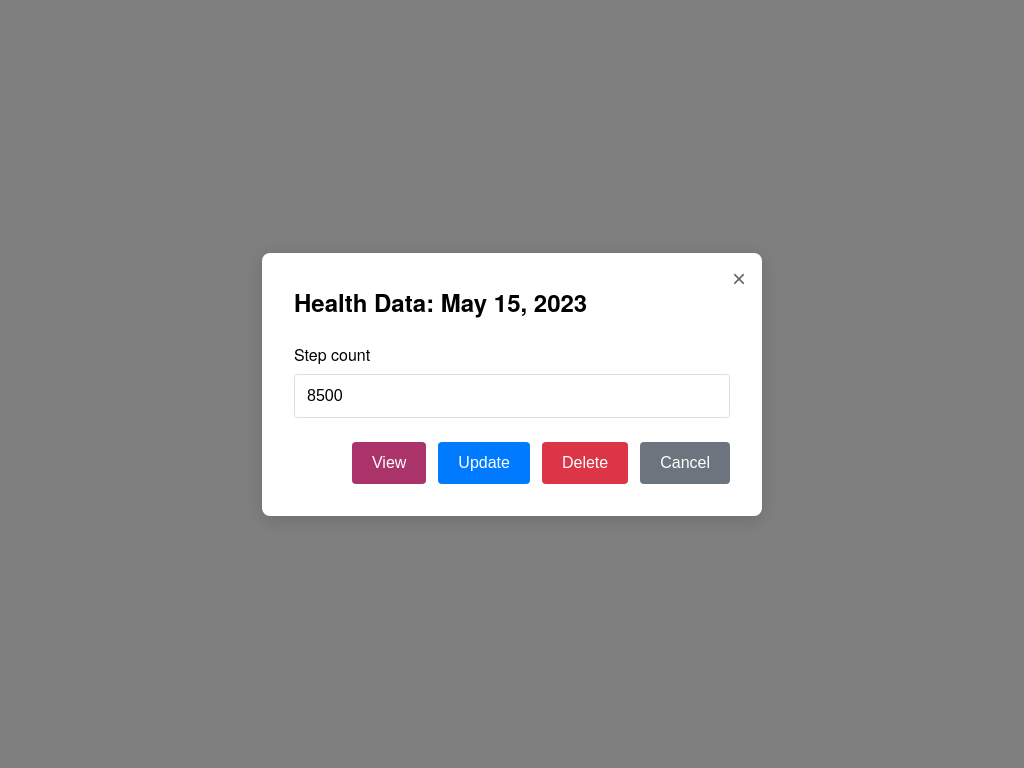
Test case: HealthDataModal Integration Tests › Error Handling Integration › should handle save operation failure gracefully
This screenshot has width=1024, height=768.
Expected: the number field labelled "Step count" is shown, x1=294 y1=374 x2=730 y2=418
// Try to save
Click the button "Update" at x=484, y=462, box x1=438 y1=442 x2=530 y2=484
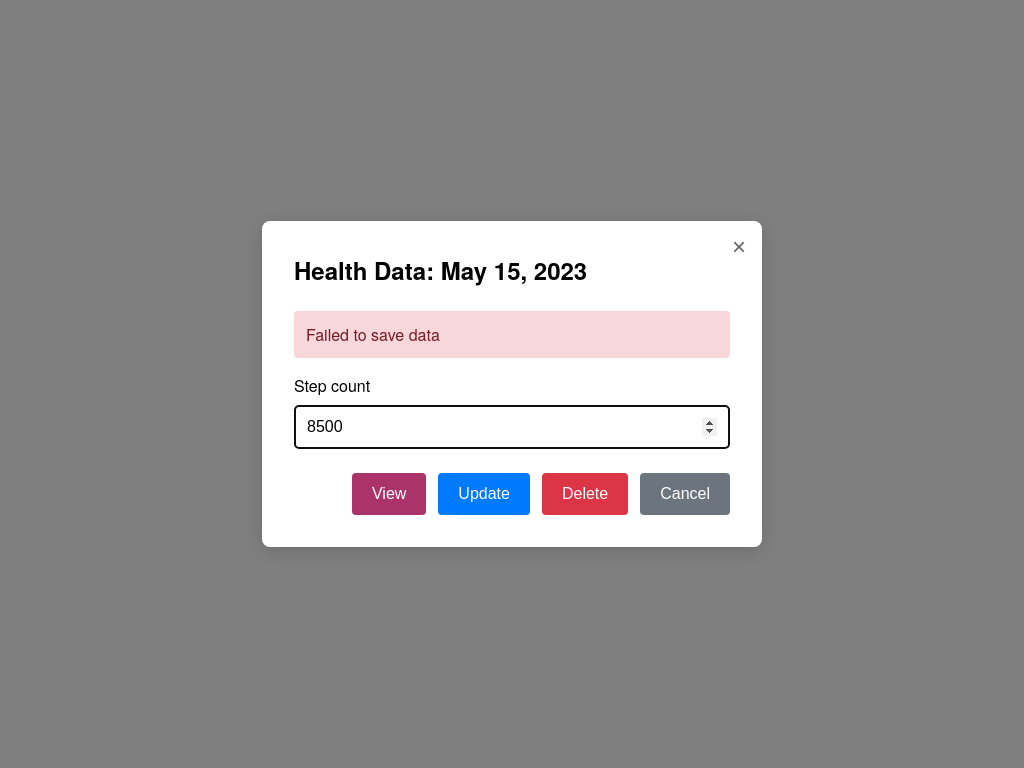
Now the text "Failed to save data" is shown, box x1=294 y1=311 x2=730 y2=358
